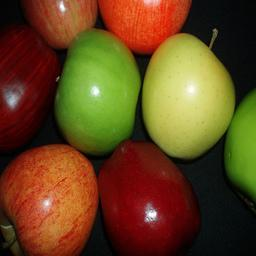apple: (144, 32, 236, 161), (97, 139, 202, 252), (52, 29, 140, 160), (1, 145, 96, 256), (97, 1, 190, 54), (20, 1, 98, 49)
